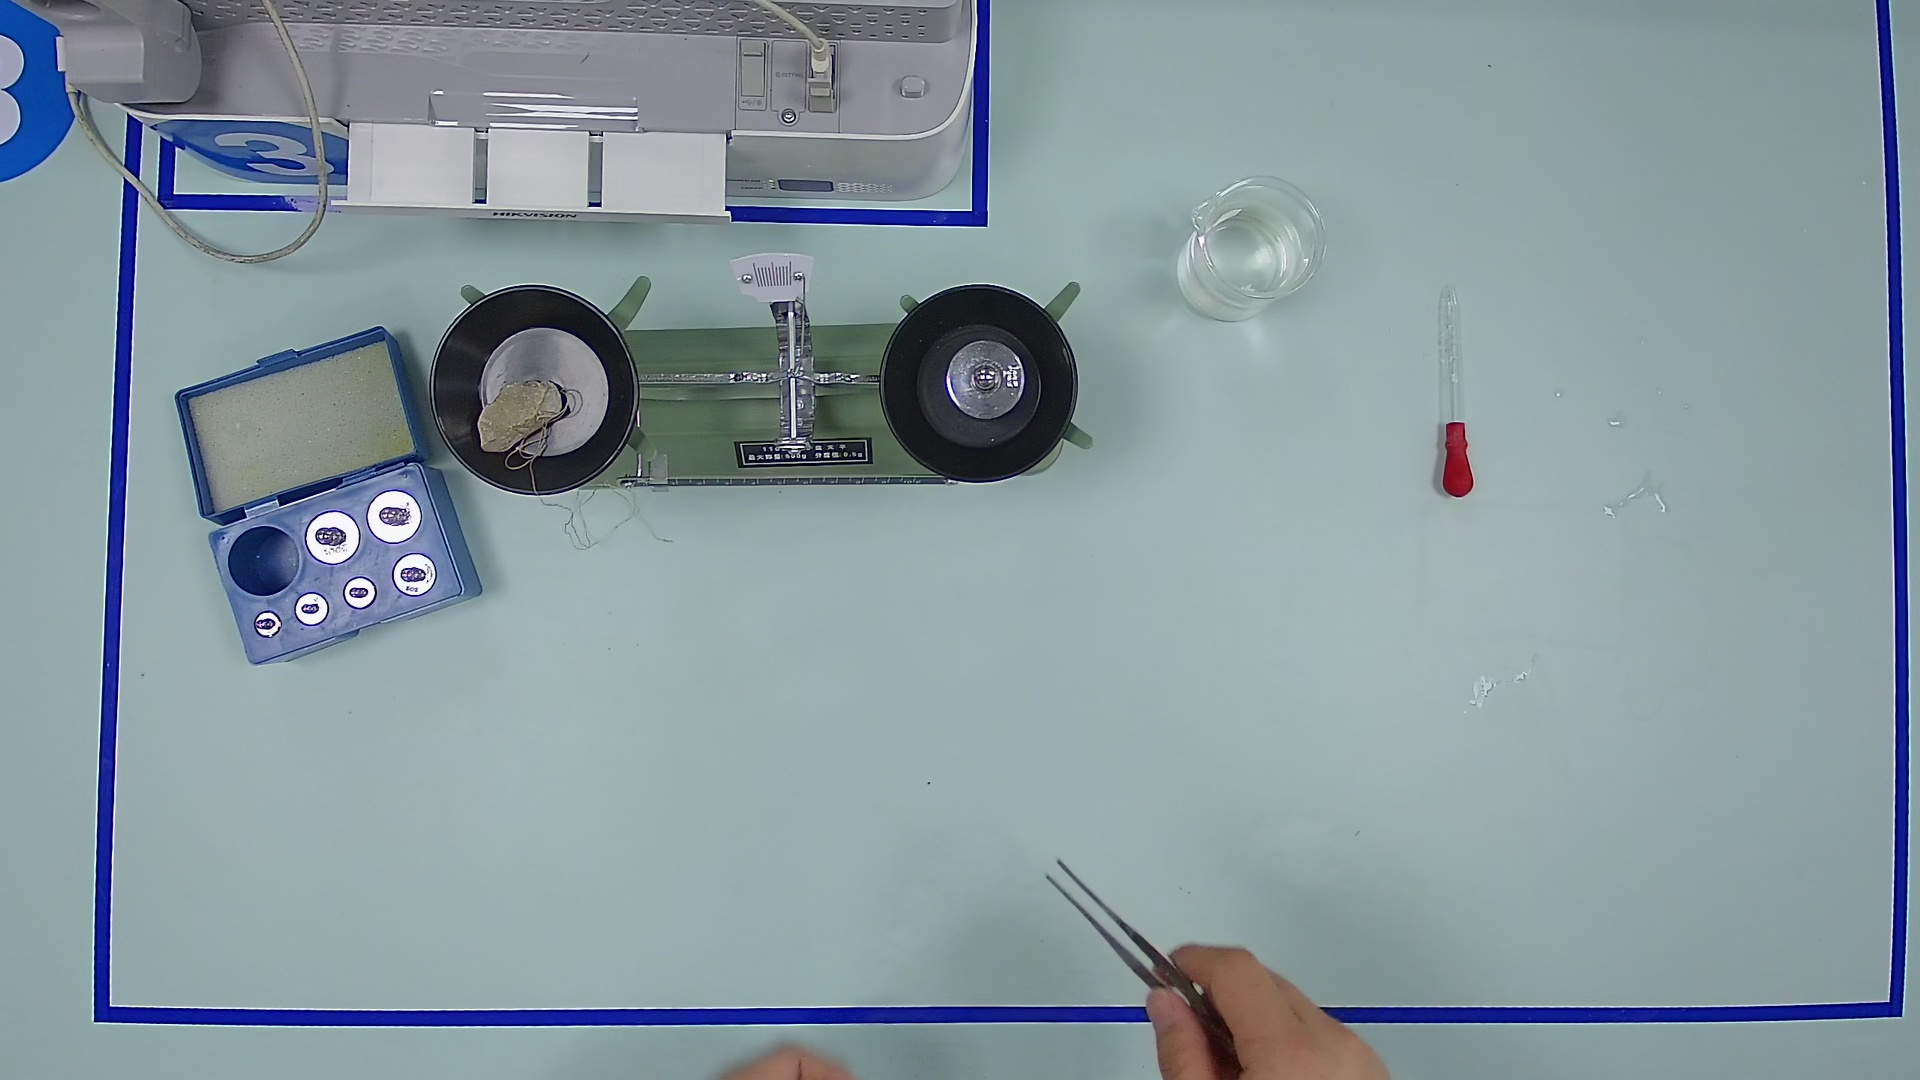bei: (1168, 167, 1331, 327)
diguan: (1416, 273, 1491, 504)
diguantou: (1431, 414, 1486, 506)
fama: (942, 334, 1031, 425), (365, 488, 423, 546), (305, 510, 360, 567), (390, 550, 436, 597), (293, 591, 330, 628), (251, 605, 285, 644), (342, 576, 378, 611)
gan: (617, 446, 945, 516)
hand: (1120, 953, 1379, 1080)
he: (195, 456, 495, 687)
niezi: (1040, 829, 1218, 1052)
pointer: (733, 249, 812, 299)
shi: (469, 352, 571, 463)
tuo: (407, 270, 659, 520), (864, 269, 1098, 504)
you: (644, 448, 676, 496)
